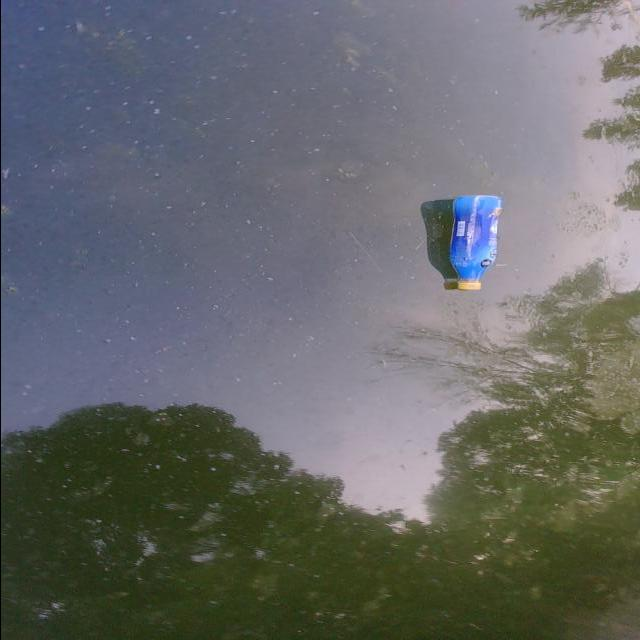Bottle: (434, 186, 509, 298)
